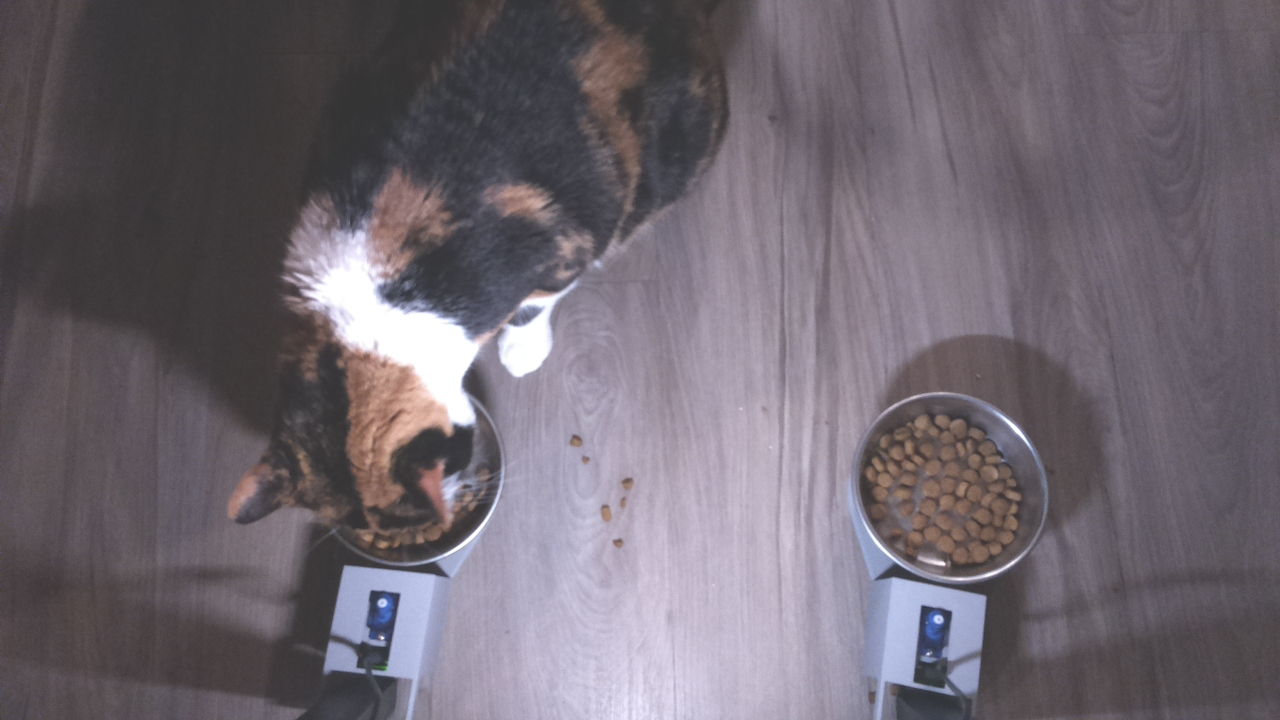bella_eating: (229, 262, 519, 578)
open_bowl: (845, 389, 1049, 584)
